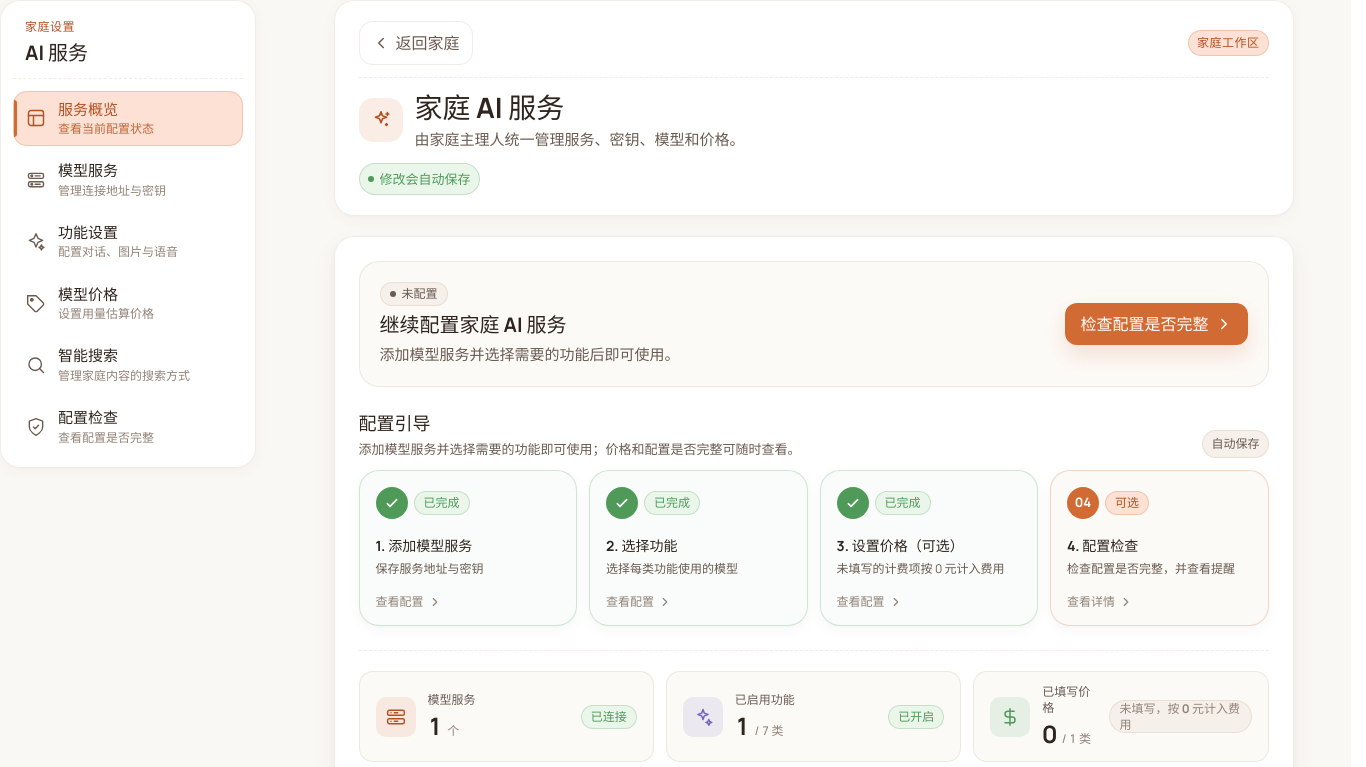
Scenario: FamilyModelSettingsWorkspace › closes an open model list with Escape without leaving the workspace
The width and height of the screenshot is (1366, 767).
Click the button "功能设置 配置对话、图片与语音". click: [128, 242]
box: x1=13 y1=214 x2=243 y2=270
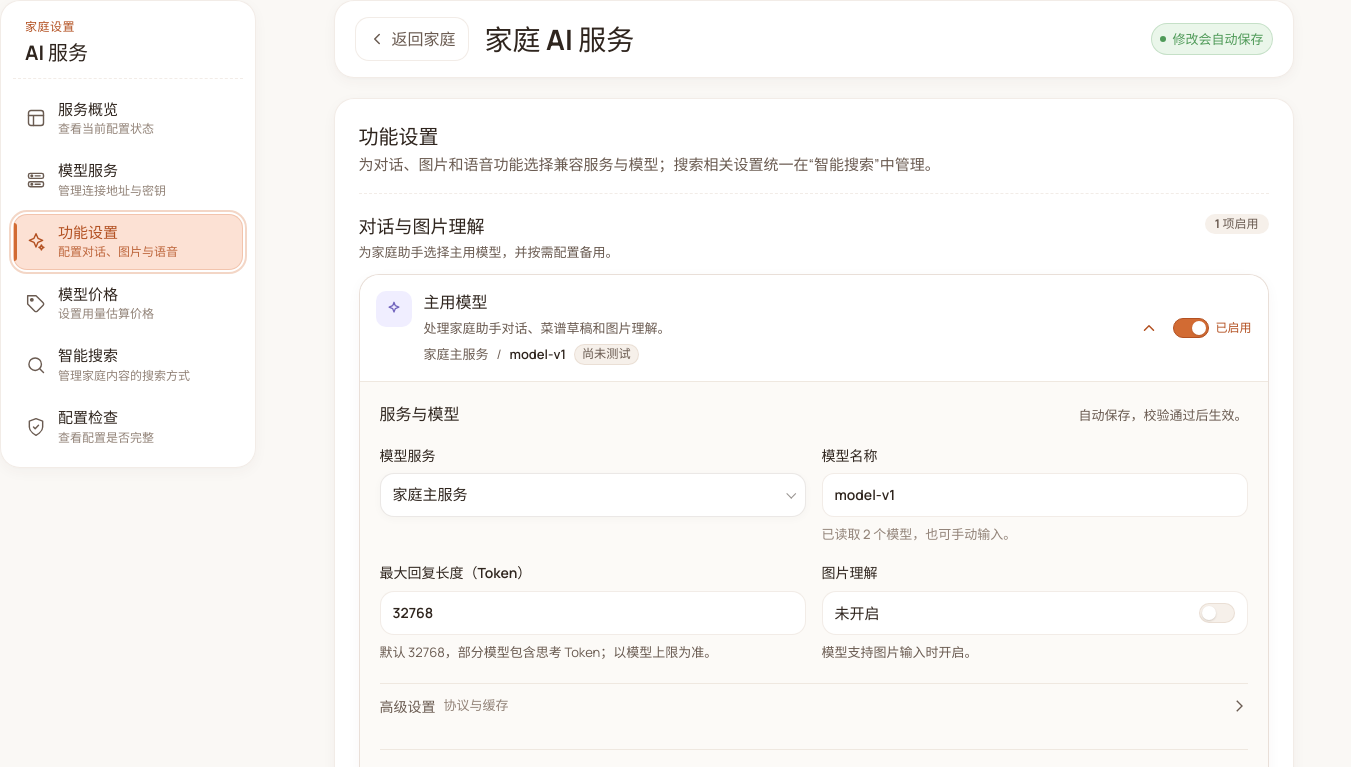
Click the dropdown named "模型名称". click: [1034, 495]
box: x1=822 y1=473 x2=1248 y2=517
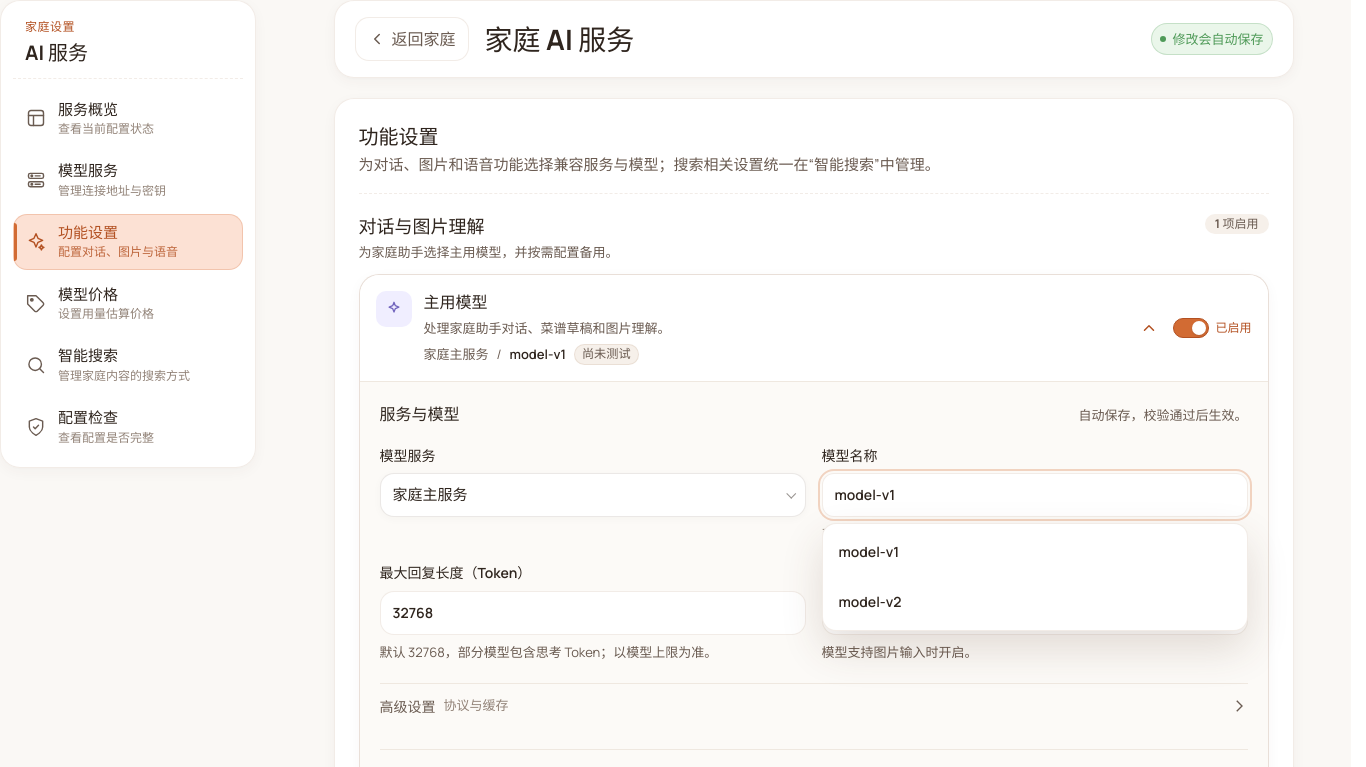
Check: the list is shown, box x1=822 y1=523 x2=1248 y2=631
Press Escape
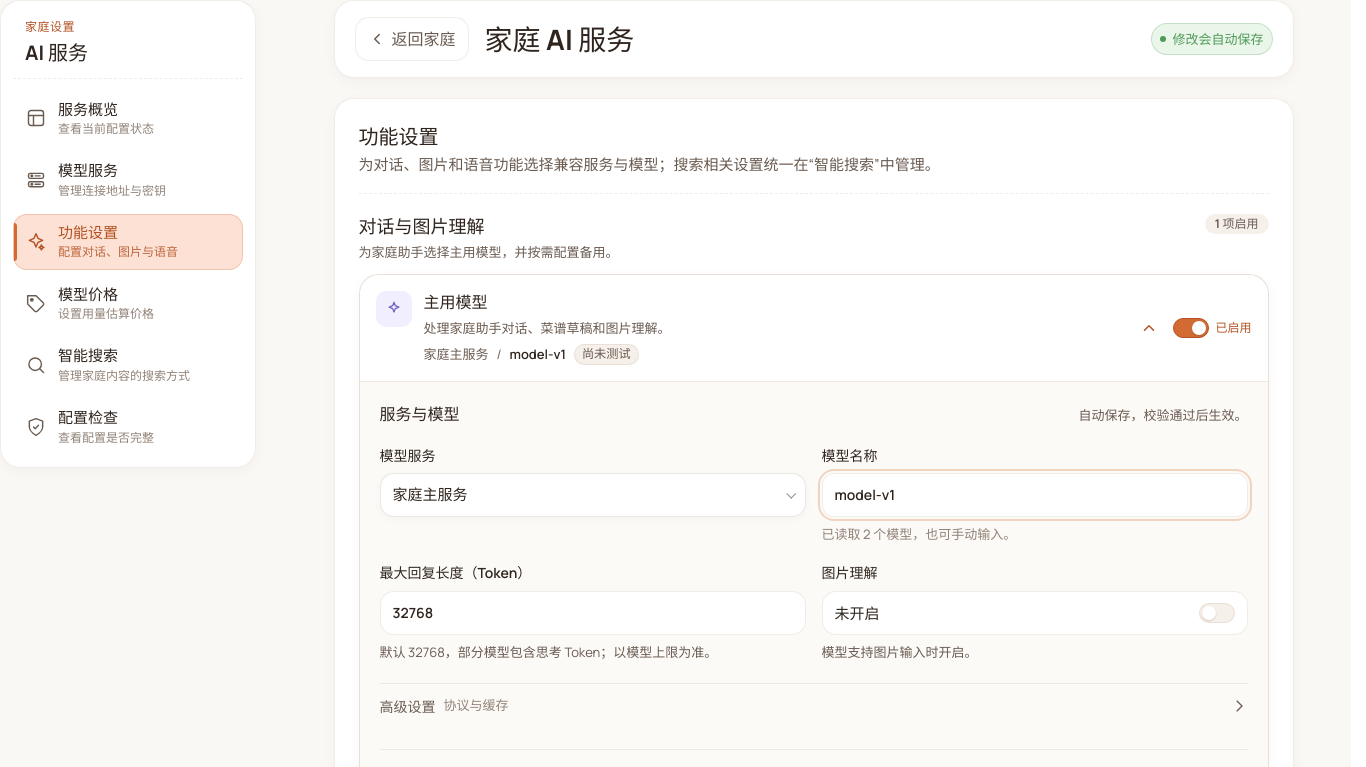
Check: the list is gone
